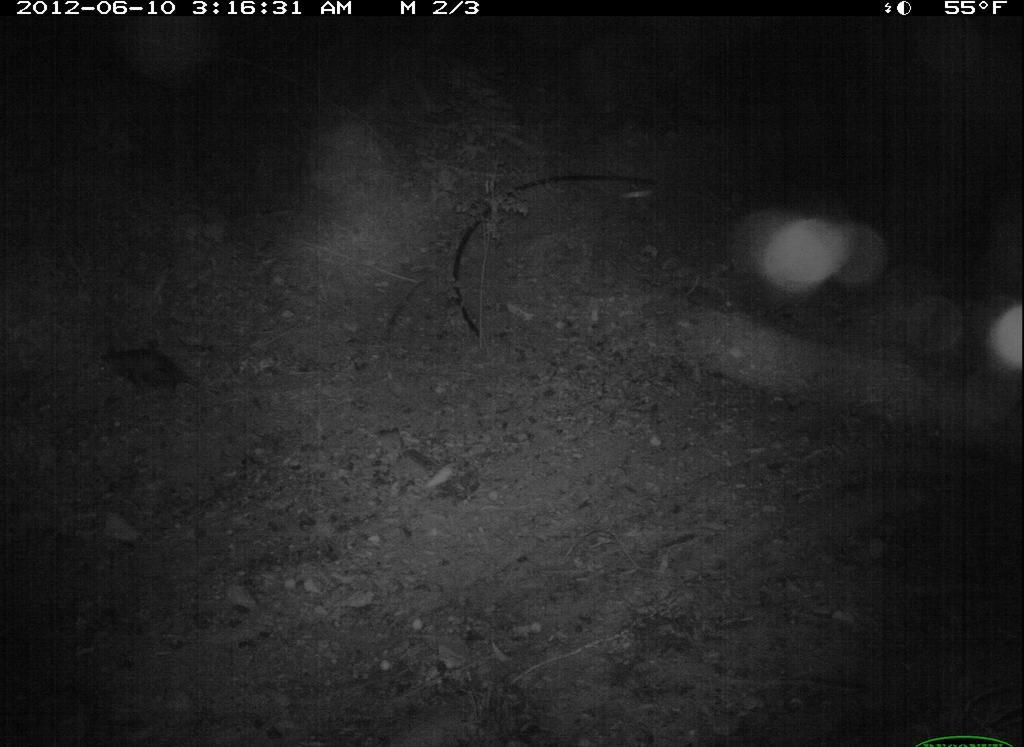opossum: (91, 336, 233, 410)
